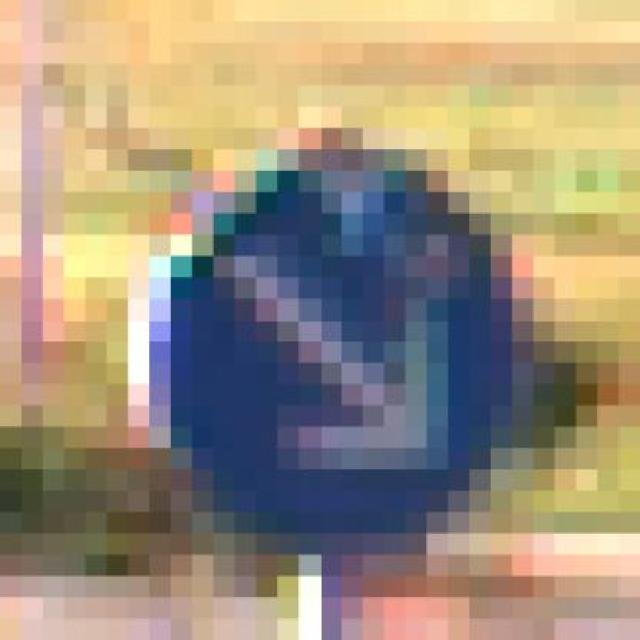Keep-Right: (107, 128, 598, 597)
